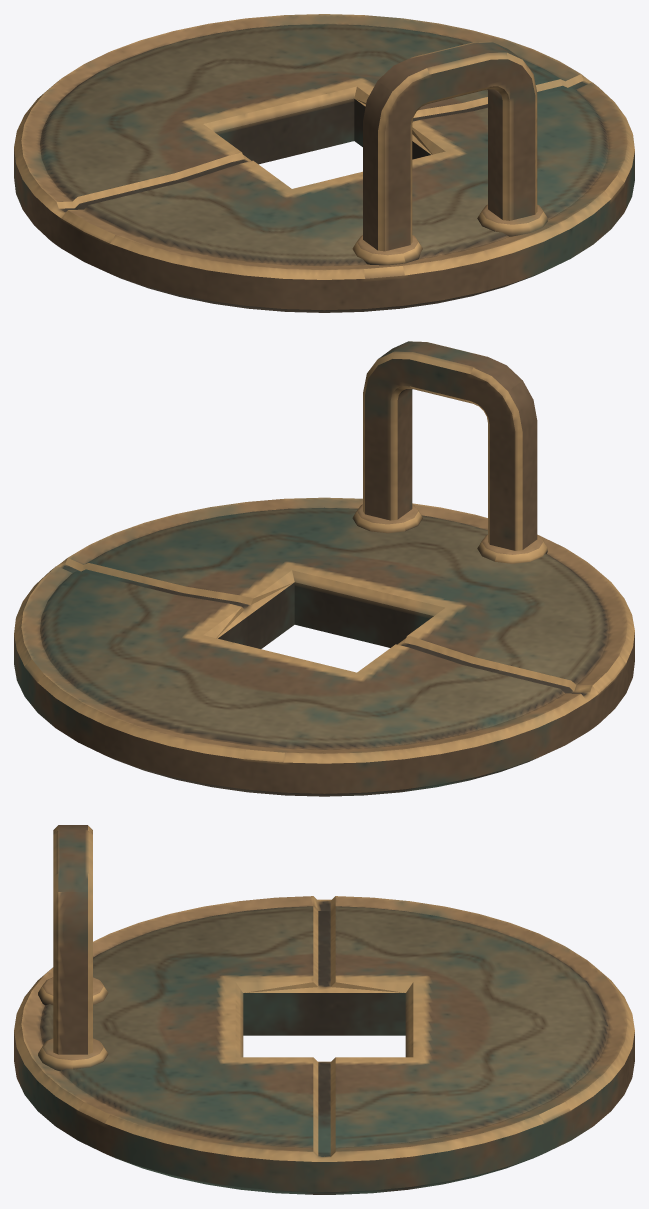
Rendered from Inner.fbx.
3 renders of one model, top to bottom at view 1: azimuth 30°, elevation 25°; view 2: azimuth 150°, elevation 25°; view 3: azimuth 270°, elevation 25°, orthographic.
Visible parts, largest first — view 1: Inner; view 2: Inner; view 3: Inner.
Part boxes in pixels (bbox=[...]): Inner: bbox=[14, 14, 634, 312]; Inner: bbox=[14, 341, 634, 796]; Inner: bbox=[14, 825, 634, 1194].
Size of the model in its own units: 0.168 by 0.0671 by 0.168.
1 material, 1 textured.
